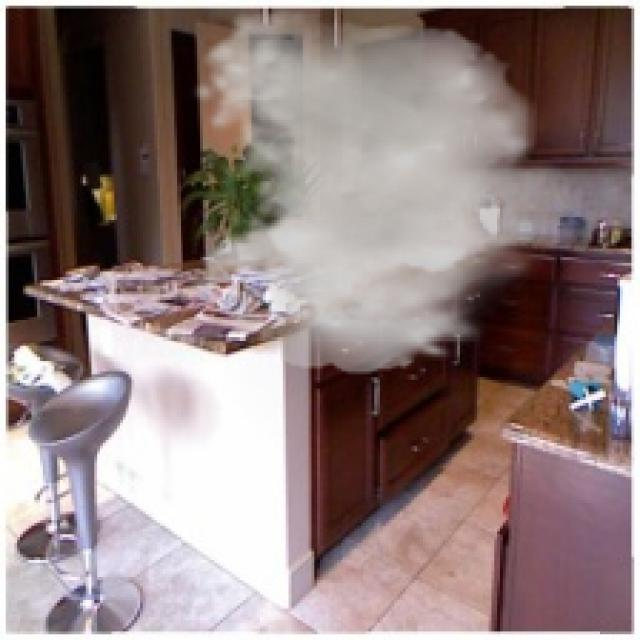smoke: (188, 9, 588, 374)
